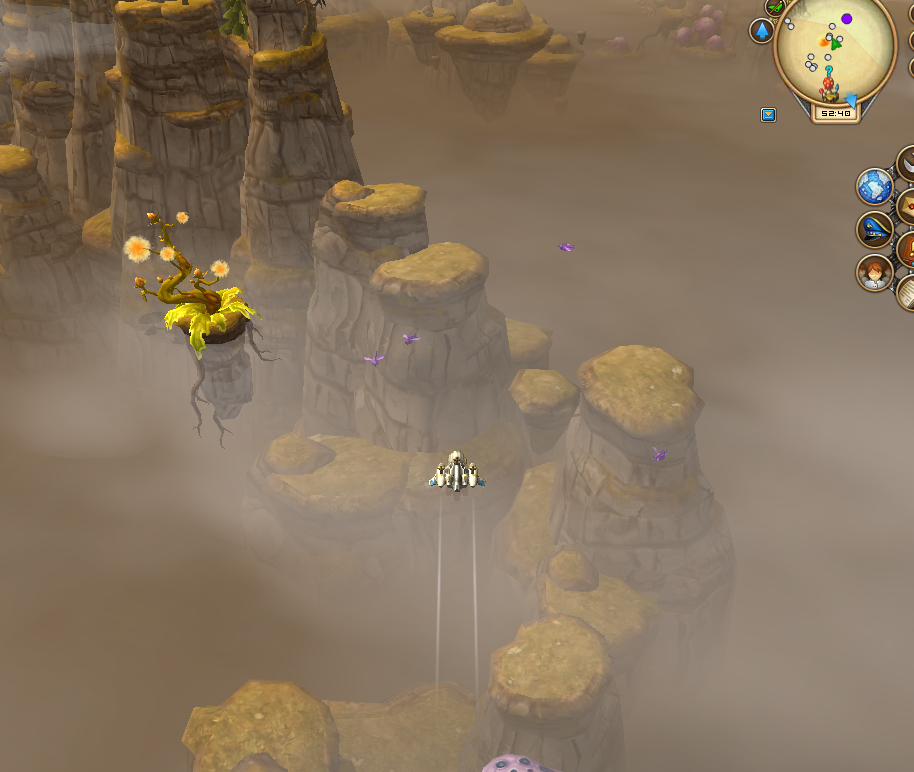dandelion-full: (115, 201, 279, 419)
